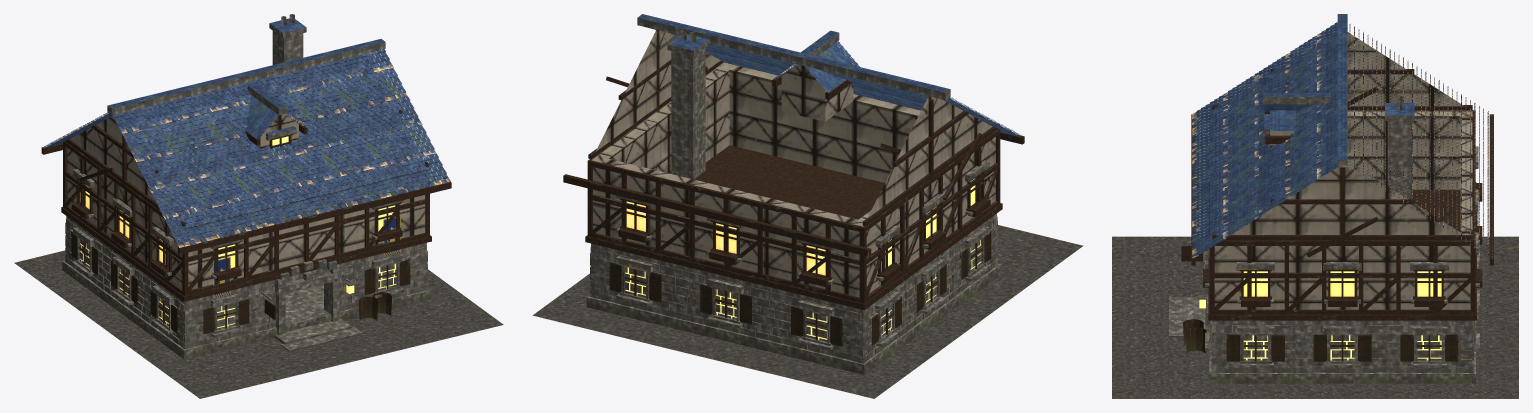
Rendered from bld_house2_card.glb.
3 renders of one model, left to right at view 1: azimuth 30°, elevation 25°; view 2: azimuth 150°, elevation 25°; view 3: azimuth 270°, elevation 25°, orthographic. The views are drawn at different scales.
Visible parts, largest first — view 1: house2_card; view 2: house2_card; view 3: house2_card.
Part boxes in pixels (bbox=[...]): house2_card: bbox=[14, 14, 503, 398]; house2_card: bbox=[532, 14, 1083, 398]; house2_card: bbox=[1112, 14, 1518, 398].
Size of the model in its own units: 24.06 by 17.65 by 25.5.
1 material, 1 textured.
